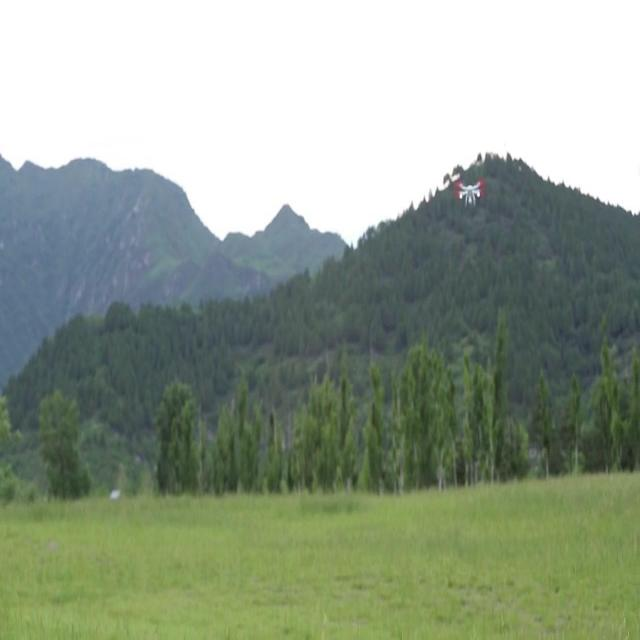UAV: (455, 179, 486, 206)
